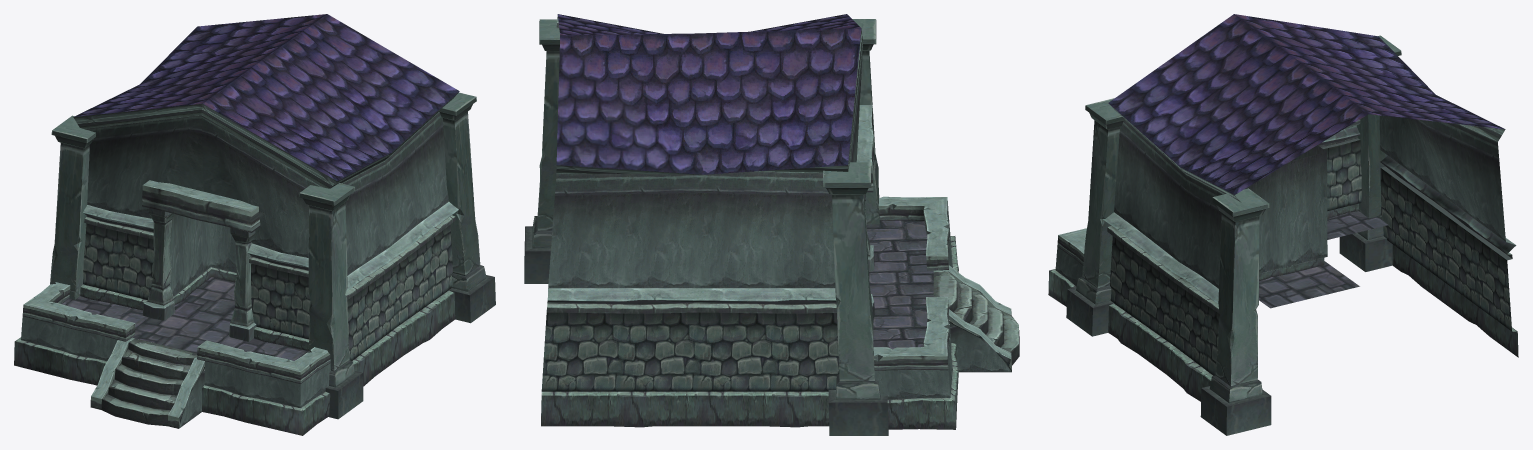
Rendered from building_mausoleum.fbx.
3 views of the same model, side by side, from view 1: azimuth 30°, elevation 25°; view 2: azimuth 150°, elevation 25°; view 3: azimuth 270°, elevation 25° (orthographic). The views are drawn at different scales.
Parts seen in each view (by area): view 1: building_mausoleum-0; view 2: building_mausoleum-0; view 3: building_mausoleum-0.
Part boxes in pixels (x1,y1,x2,y2): building_mausoleum-0: (14, 14, 495, 435); building_mausoleum-0: (524, 14, 1019, 435); building_mausoleum-0: (1048, 14, 1518, 435).
Size of the model in its own units: 11.35 by 6.88 by 10.6.
